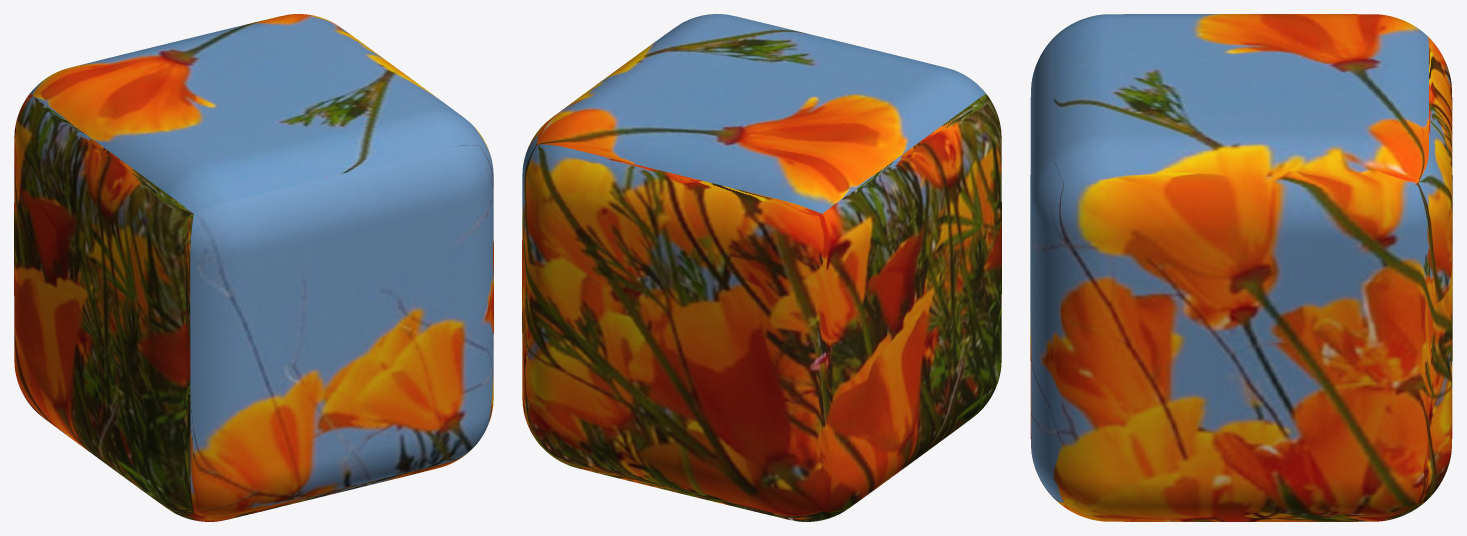
The picture shows the model from 3 angles, left to right: view 1: azimuth 30°, elevation 25°; view 2: azimuth 150°, elevation 25°; view 3: azimuth 270°, elevation 25°; orthographic projection. The views are drawn at different scales.
Parts seen in each view (by area): view 1: Cube; view 2: Cube; view 3: Cube.
Part boxes in pixels (x1,y1,x2,y2): Cube: (14, 14, 493, 521); Cube: (522, 14, 1001, 521); Cube: (1030, 14, 1452, 521).
Size of the model in its own units: 2 by 2 by 2.
Materials: 1 (1 with a texture image).
